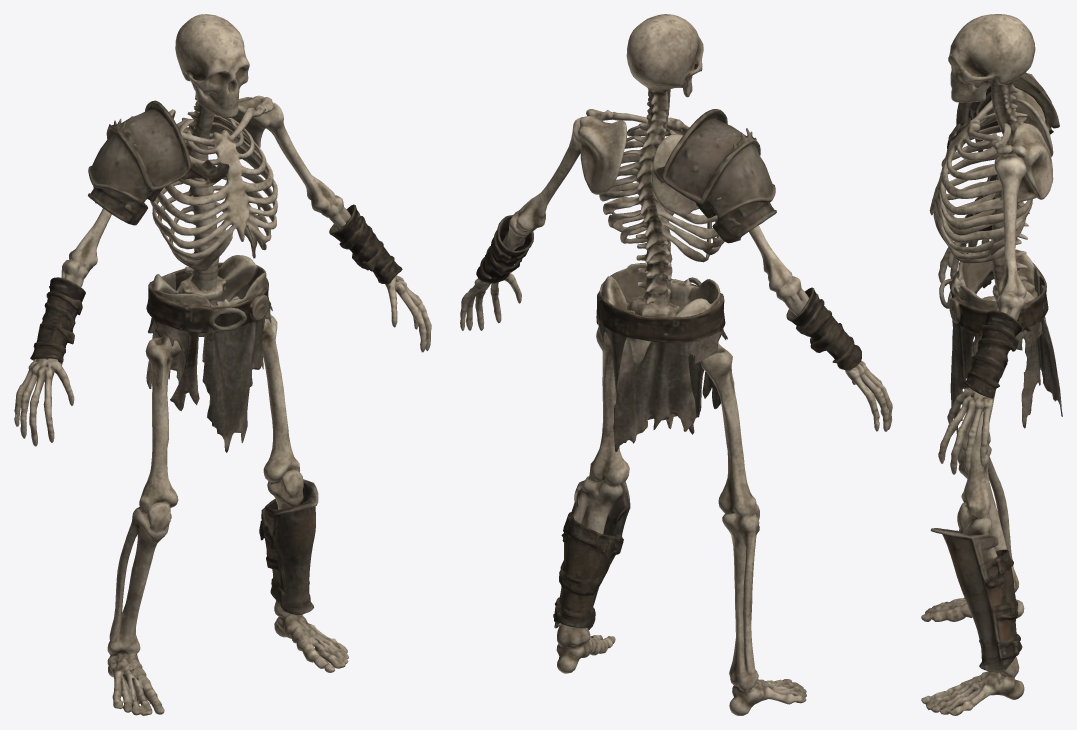
The model's file is skeleton.glb.
The picture shows the model from 3 angles, left to right: view 1: azimuth 30°, elevation 25°; view 2: azimuth 150°, elevation 25°; view 3: azimuth 270°, elevation 25°; orthographic projection. The views are drawn at different scales.
Parts seen in each view (by area): view 1: world; view 2: world; view 3: world.
Boxes of the visible parts, x1,y1,x2,y2 form: world: [14, 14, 431, 715]; world: [460, 14, 892, 715]; world: [921, 14, 1062, 715].
Bounding box in the file's own units: 0.6567 × 1 × 0.1986.
Materials: 1 (1 with a texture image).
